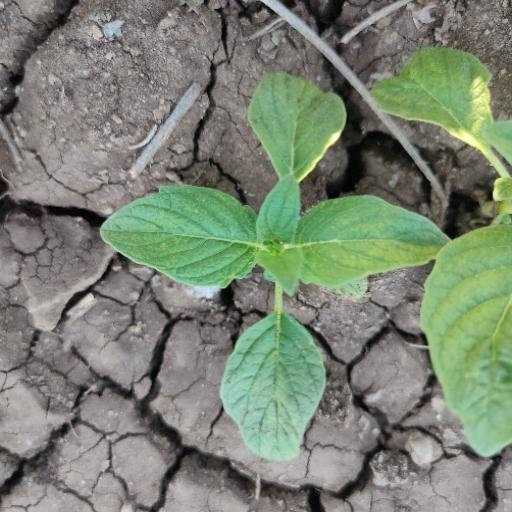crop: (103, 75, 440, 447)
